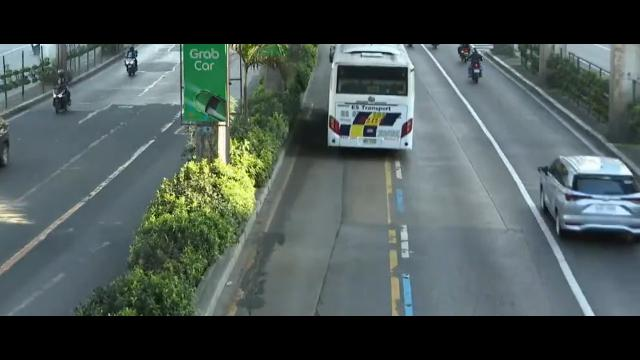bus: (327, 45, 415, 153)
car: (539, 156, 640, 243)
motorcycle: (51, 68, 72, 115), (466, 47, 484, 86), (124, 45, 139, 77), (457, 43, 472, 65)
